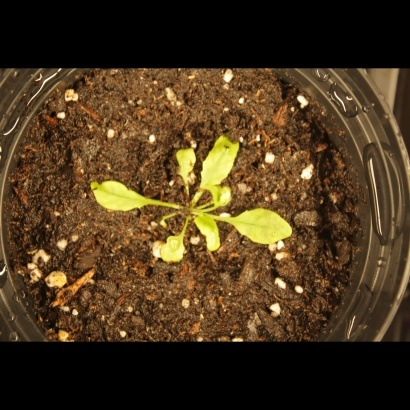leaf: (81, 166, 152, 223), (203, 129, 242, 197), (235, 202, 296, 244), (193, 212, 228, 255), (155, 228, 190, 268), (168, 142, 199, 186), (211, 187, 235, 212)
